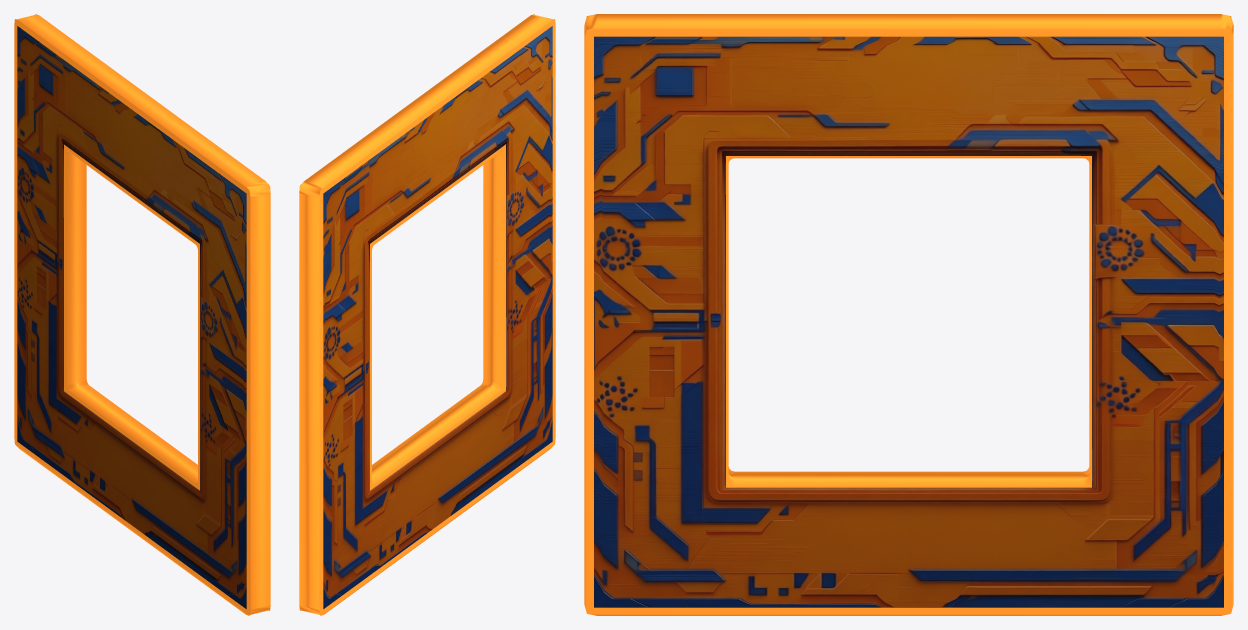
File: orange_single_gate.dae
3 renders of one model, left to right at view 1: azimuth 30°, elevation 25°; view 2: azimuth 150°, elevation 25°; view 3: azimuth 270°, elevation 25°, orthographic. The views are drawn at different scales.
Visible parts, largest first — view 1: Cube; view 2: Cube; view 3: Cube.
Part boxes in pixels (x1,y1,x2,y2): Cube: (14,14,270,615); Cube: (299,14,555,615); Cube: (584,14,1233,615).
Bounding box in the file's own units: 0.14 × 2.7 × 2.7.
